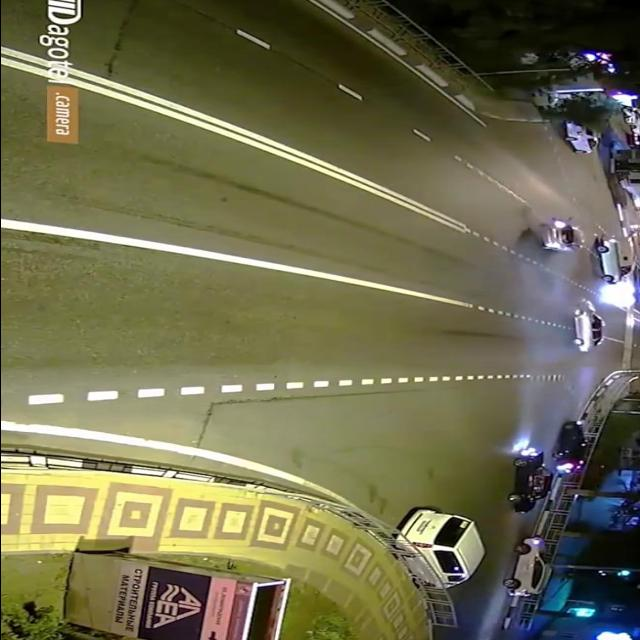accident: (525, 215, 611, 357)
non_accident: (499, 415, 599, 518)
